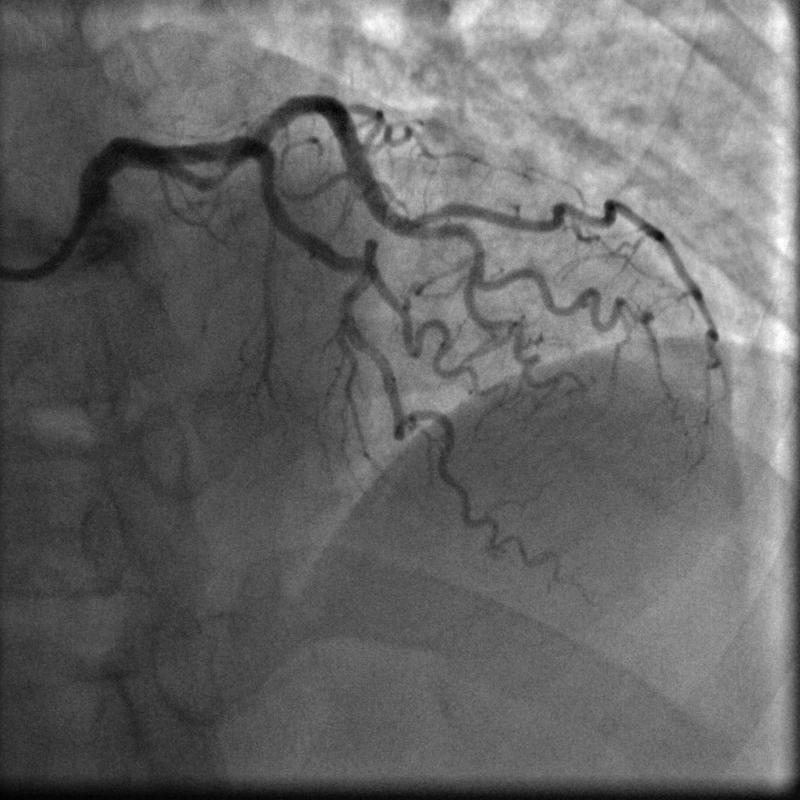Stenosis: (199, 151, 238, 187)
